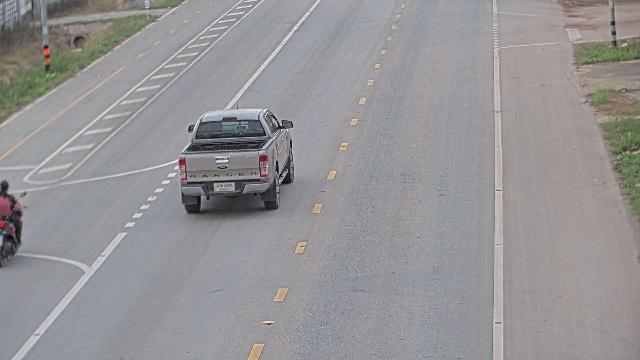pickup-truck: (177, 107, 295, 213)
